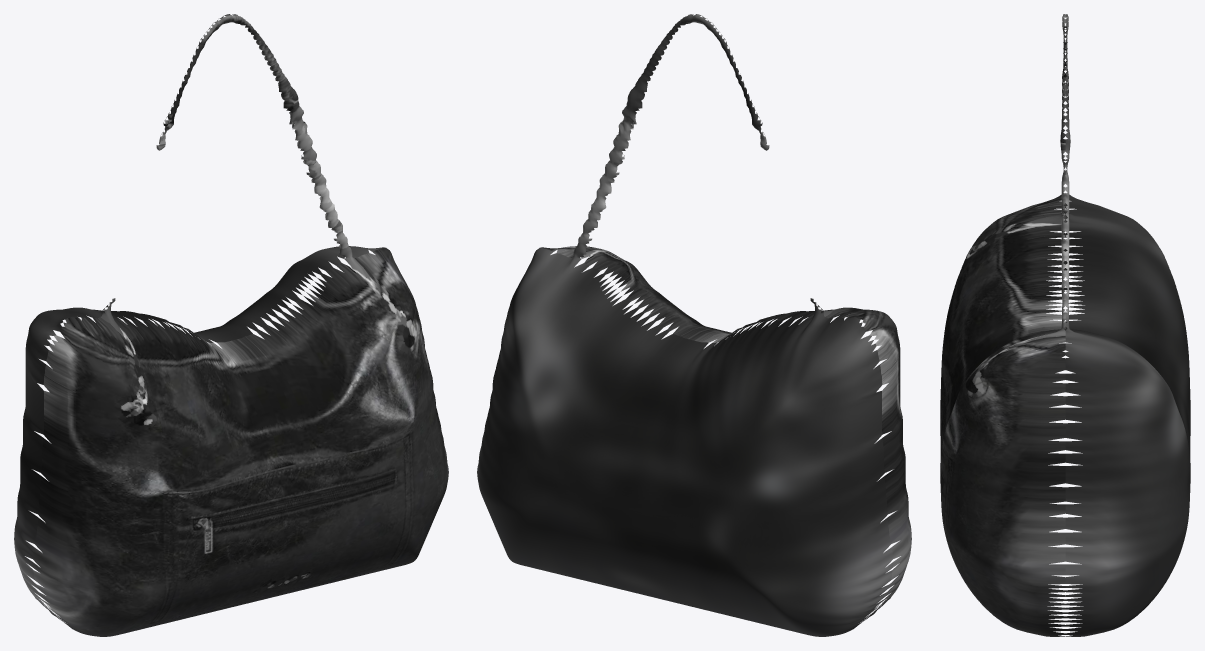
The model's file is mauna-chain-black.glb.
3 views of the same model, side by side, from view 1: azimuth 30°, elevation 25°; view 2: azimuth 150°, elevation 25°; view 3: azimuth 270°, elevation 25° (orthographic). The views are drawn at different scales.
Visible parts, largest first — view 1: mauna-chain-black; view 2: mauna-chain-black; view 3: mauna-chain-black.
Part boxes in pixels (box(x1,y1,x2,y2)): mauna-chain-black: box(14, 14, 448, 636); mauna-chain-black: box(477, 14, 911, 636); mauna-chain-black: box(940, 14, 1190, 636).
Size of the model in its own units: 0.3693 by 0.5104 by 0.2119.
Materials: 2 (2 with a texture image).
